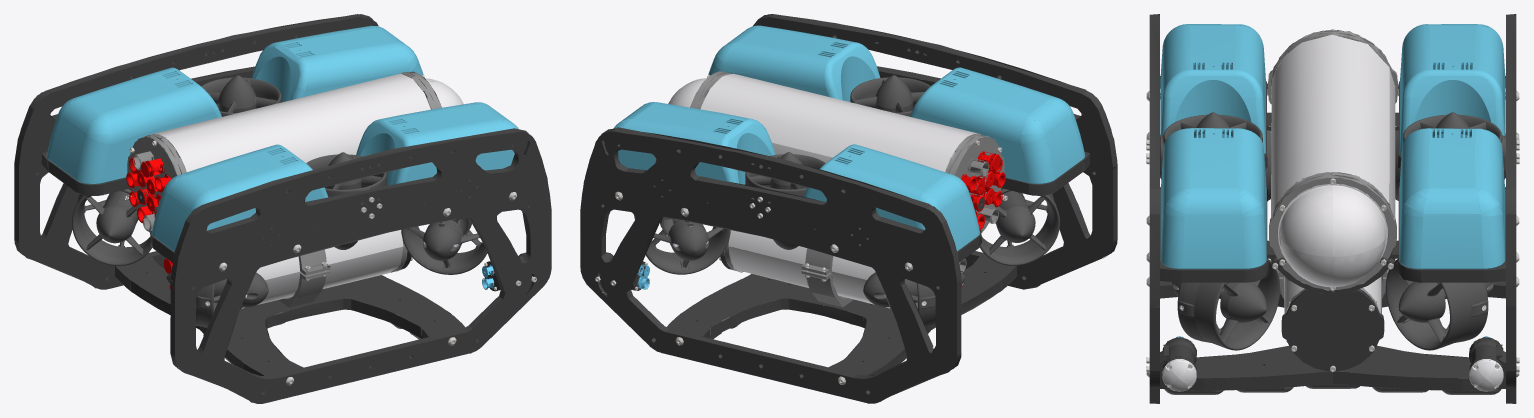
The model's file is bluerov2_underwater_rov.glb.
3 views of the same model, side by side, from view 1: azimuth 30°, elevation 25°; view 2: azimuth 150°, elevation 25°; view 3: azimuth 270°, elevation 25° (orthographic). The views are drawn at different scales.
Parts seen in each view (by area): view 1: Frame_001, Frame_006, Tank_4_, Untitled_011, Frame, Untitled_012, Untitled_010, Untitled_009, Tank_3_, Untitled_216, Untitled_180, Untitled_365 (+11 smaller); view 2: Frame_006, Frame_001, Tank_4_, Untitled_010, Frame, Untitled_009, Untitled_011, Untitled_012, Tank_3_, Untitled_217, Untitled_215, Untitled_117 (+10 smaller); view 3: Tank_4_, Untitled_012, Untitled_009, Untitled_011, Untitled_010, Frame, Untitled_354, Untitled_468, Untitled_117, Untitled_365, Frame_006, Frame_001 (+15 smaller).
Part boxes in pixels (x1,y1,x2,y2): Frame_001: (170, 128, 551, 403); Frame_006: (14, 14, 378, 289); Tank_4_: (150, 73, 431, 172); Untitled_011: (46, 67, 221, 184); Frame: (115, 256, 465, 379); Untitled_012: (252, 25, 423, 102); Untitled_010: (152, 144, 328, 251); Untitled_009: (356, 102, 518, 185); Tank_3_: (241, 230, 403, 308); Untitled_216: (72, 181, 151, 265); Untitled_180: (201, 75, 281, 116); Untitled_365: (401, 217, 487, 274); Frame_006: (580, 127, 961, 403); Frame_001: (753, 14, 1117, 289); Tank_4_: (700, 73, 980, 171); Untitled_010: (910, 67, 1085, 184); Frame: (667, 256, 1016, 375); Untitled_009: (708, 25, 880, 101); Untitled_011: (803, 144, 979, 251); Untitled_012: (613, 102, 775, 184); Tank_3_: (728, 230, 889, 308); Untitled_217: (980, 178, 1059, 265); Untitled_215: (850, 75, 930, 116); Untitled_117: (646, 217, 730, 274); Tank_4_: (1271, 34, 1395, 217); Untitled_012: (1399, 128, 1505, 269); Untitled_009: (1160, 128, 1266, 269); Untitled_011: (1399, 24, 1505, 153); Untitled_010: (1160, 24, 1265, 154); Frame: (1160, 281, 1505, 390); Untitled_354: (1278, 183, 1387, 287); Untitled_468: (1281, 289, 1384, 371); Untitled_117: (1385, 258, 1488, 350); Untitled_365: (1177, 258, 1280, 350); Frame_006: (1506, 14, 1516, 403); Frame_001: (1149, 14, 1159, 403).
Bounding box in the file's own units: 0.4576 × 0.2552 × 0.3442.
